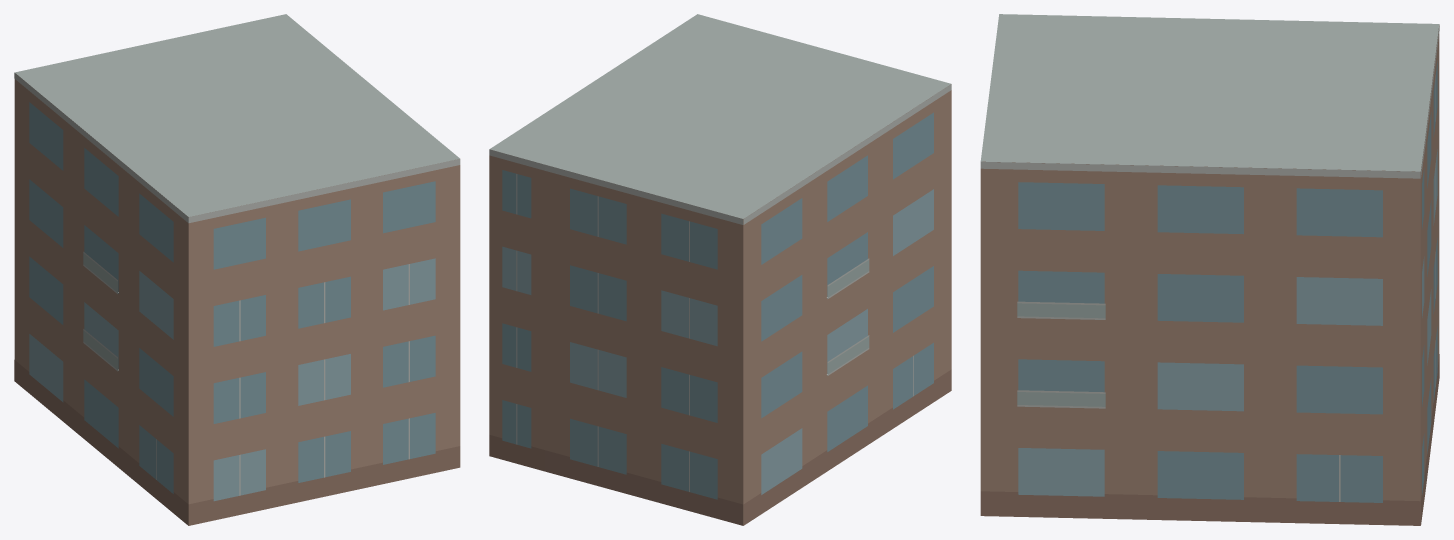
The model's file is residential-d962d6ed-2c07-44a7-a17f-5cb22b6f6585.glb.
3 renders of one model, left to right at view 1: azimuth 30°, elevation 25°; view 2: azimuth 150°, elevation 25°; view 3: azimuth 270°, elevation 25°, orthographic. The views are drawn at different scales.
Visible parts, largest first — view 1: residential-d962d6ed-2c07-44a7-a17f-5cb22b6f6585.tmp; view 2: residential-d962d6ed-2c07-44a7-a17f-5cb22b6f6585.tmp; view 3: residential-d962d6ed-2c07-44a7-a17f-5cb22b6f6585.tmp.
Boxes of the visible parts, x1=… form: residential-d962d6ed-2c07-44a7-a17f-5cb22b6f6585.tmp: x1=14, y1=14, x2=460, y2=525; residential-d962d6ed-2c07-44a7-a17f-5cb22b6f6585.tmp: x1=489, y1=14, x2=951, y2=525; residential-d962d6ed-2c07-44a7-a17f-5cb22b6f6585.tmp: x1=980, y1=14, x2=1439, y2=525.
Bounding box in the file's own units: 11.65 × 12.2 × 14.33.
